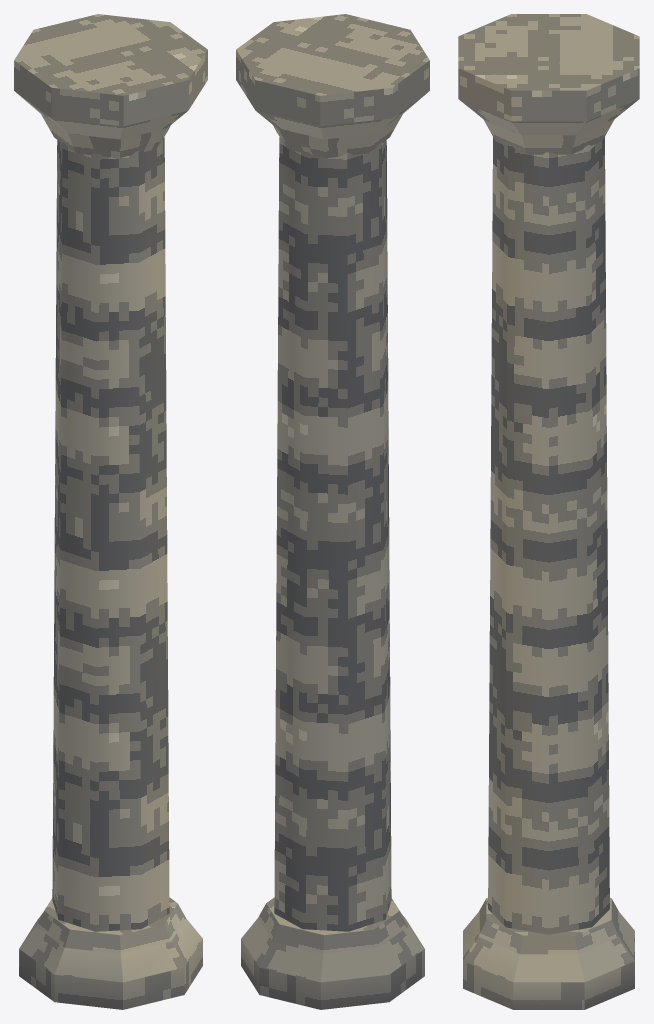
The model's file is cst.pillar.glb.
3 views of the same model, side by side, from view 1: azimuth 30°, elevation 25°; view 2: azimuth 150°, elevation 25°; view 3: azimuth 270°, elevation 25° (orthographic).
Parts seen in each view (by area): view 1: kit_shaft, kit_mould; view 2: kit_shaft, kit_mould; view 3: kit_shaft, kit_mould.
Part boxes in pixels (<box>): kit_shaft: <box>52,136,169,931</box>; kit_mould: <box>14,14,207,1009</box>; kit_shaft: <box>274,136,391,931</box>; kit_mould: <box>236,14,429,1009</box>; kit_shaft: <box>488,137,609,934</box>; kit_mould: <box>458,14,639,1009</box>.
Bounding box in the file's own units: 1.07 × 6 × 1.07.
2 materials, 2 textured.
